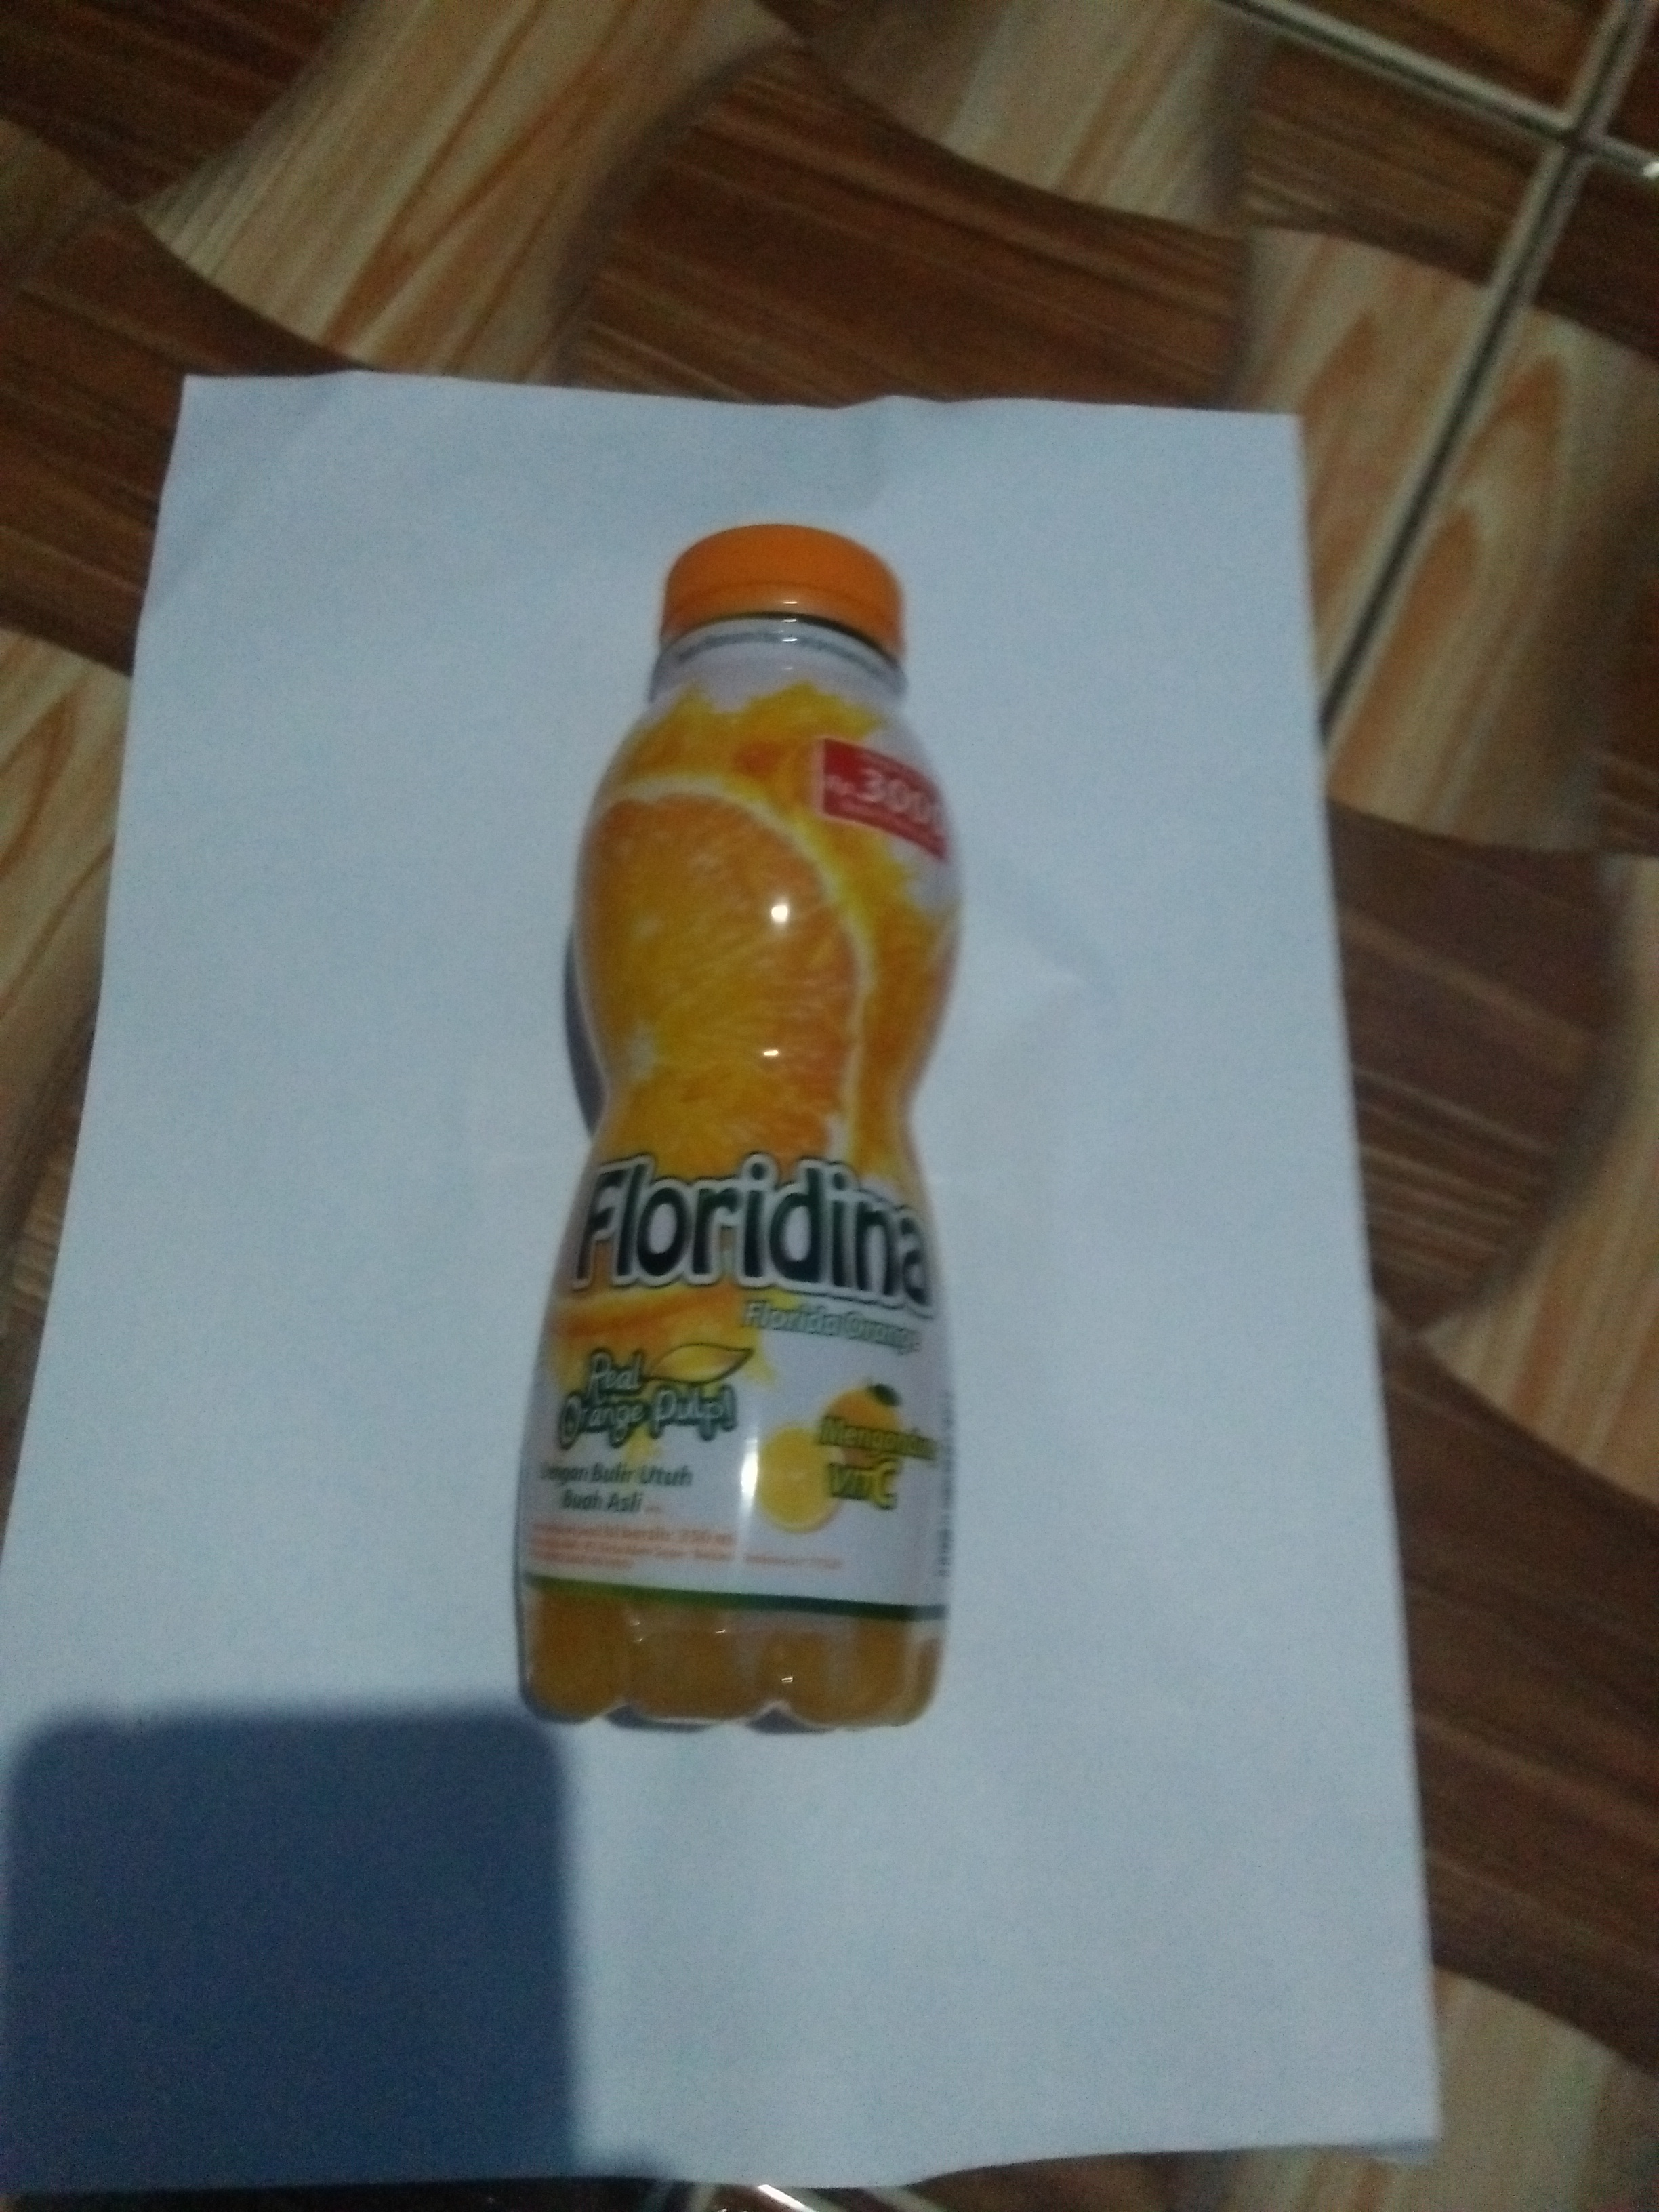Floridina: (518, 523, 983, 1745)
